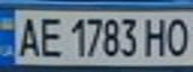1: (63, 15, 87, 57)
3: (118, 15, 142, 58)
7: (84, 15, 106, 57)
8: (103, 15, 124, 57)
A: (12, 14, 42, 58)
E: (33, 14, 66, 58)
H: (139, 15, 172, 57)
O: (163, 15, 193, 57)
